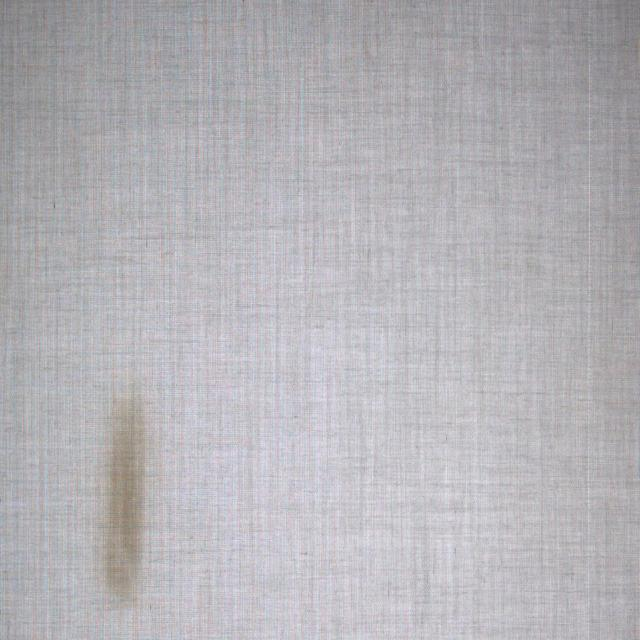dirty: (101, 402, 146, 603)
